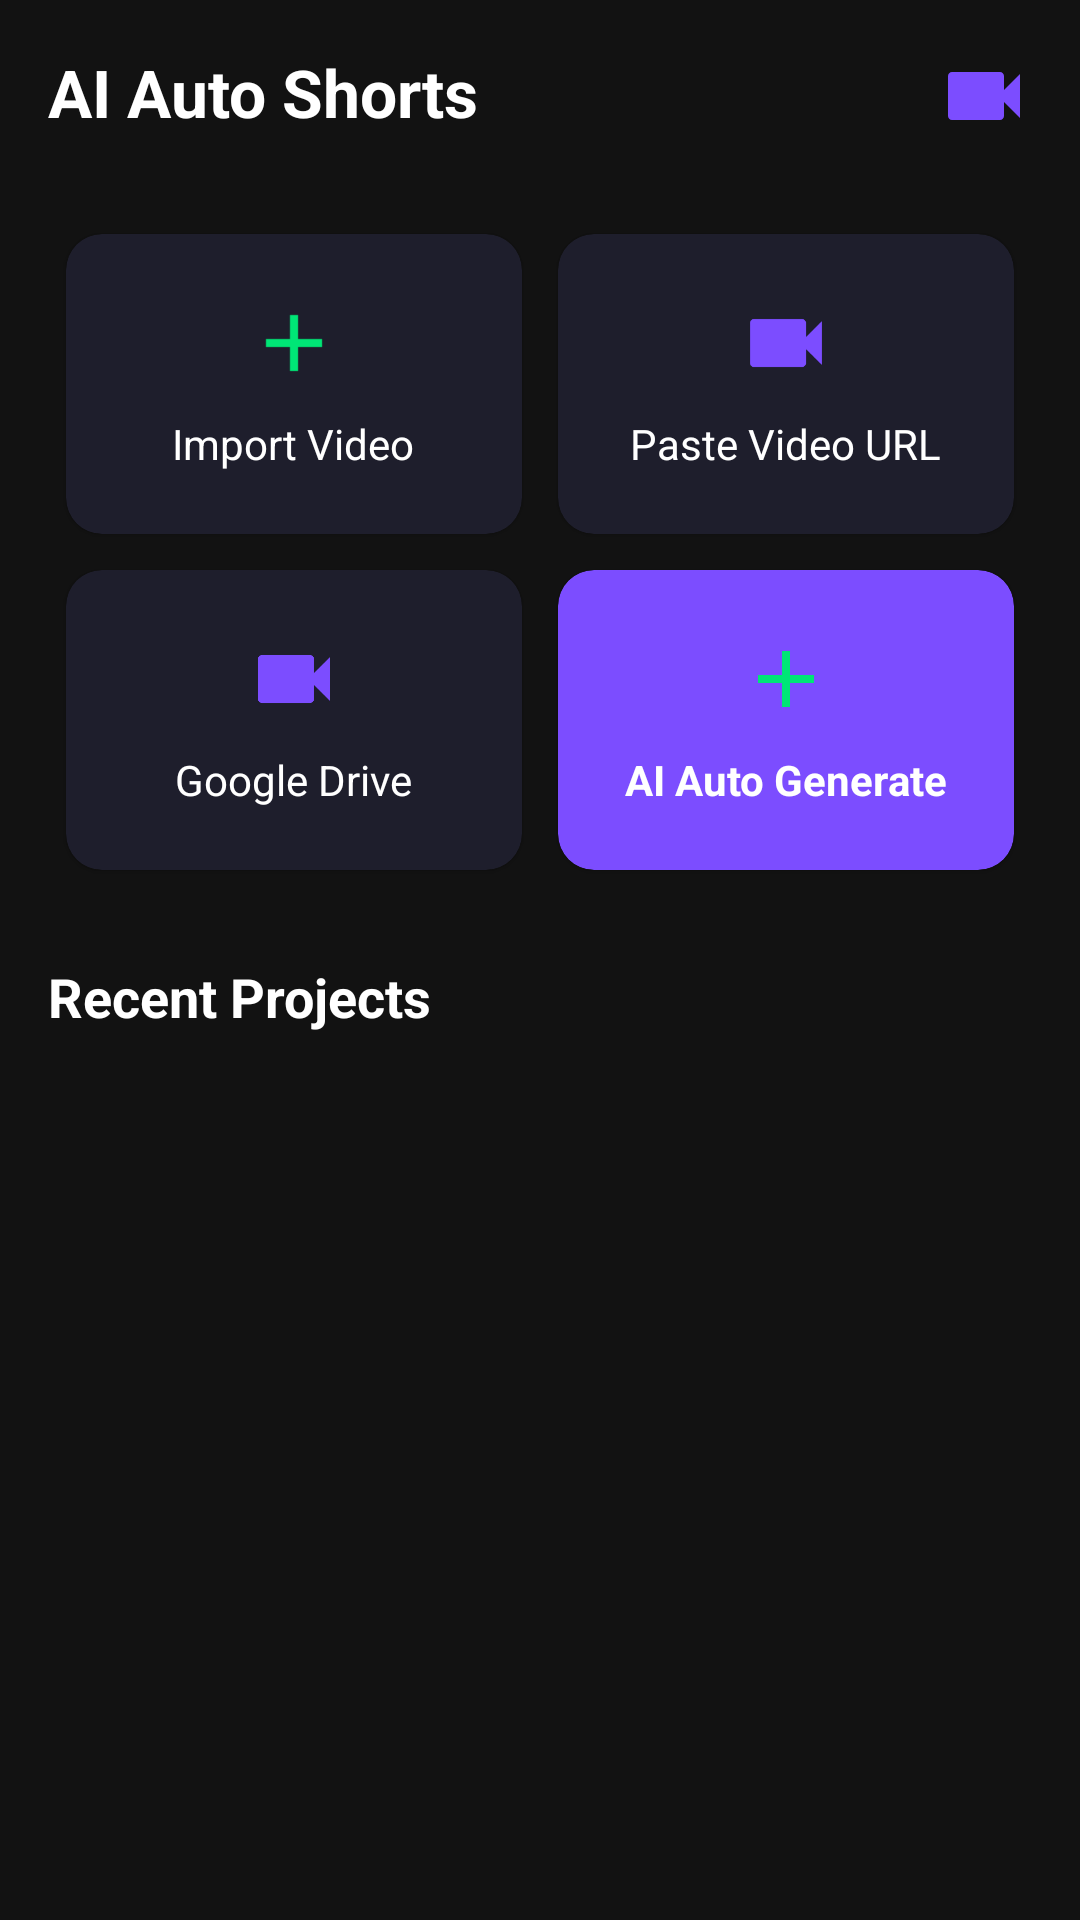

Locate icon controls on the screen. Image size 1080px x 1920px, boxes as (x1, y1, x2, y2).
add: (265, 314, 323, 372), (758, 651, 814, 707)
